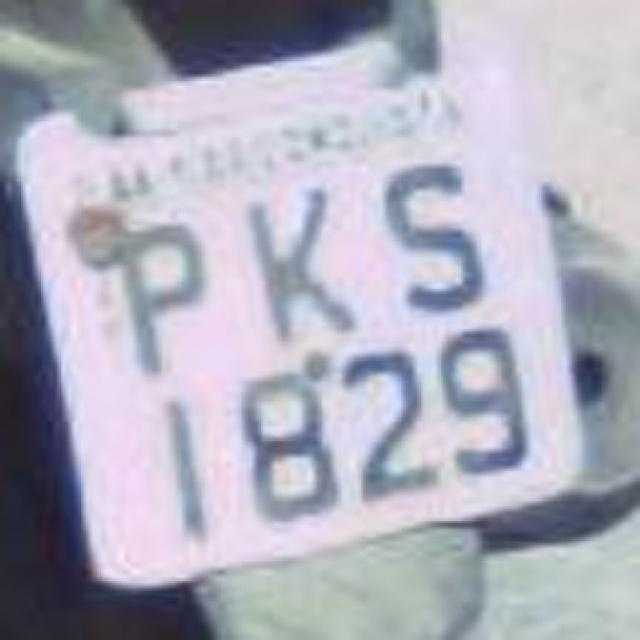1: (129, 376, 236, 549)
2: (312, 328, 448, 512)
9: (408, 304, 552, 491)
K: (228, 172, 372, 352)
P: (80, 192, 215, 376)
S: (368, 149, 504, 316)
